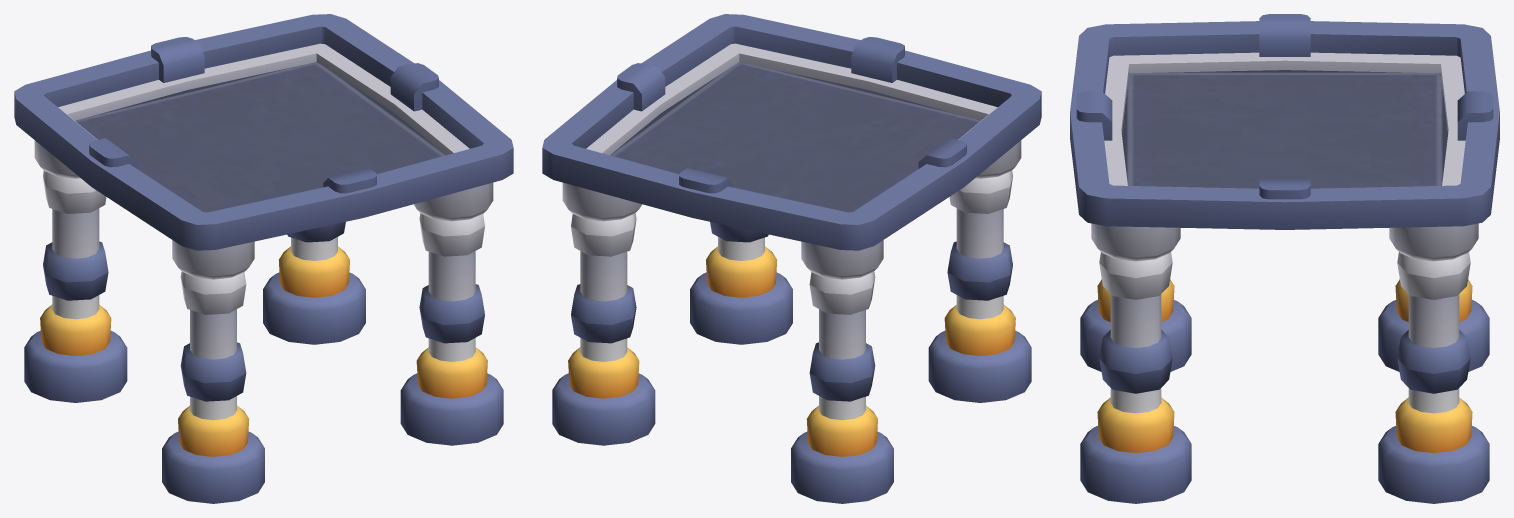
The model's file is kenney-space-modular-template-floor-layer-raised.glb.
3 views of the same model, side by side, from view 1: azimuth 30°, elevation 25°; view 2: azimuth 150°, elevation 25°; view 3: azimuth 270°, elevation 25° (orthographic). The views are drawn at different scales.
Parts seen in each view (by area): view 1: template-floor-layer-raised; view 2: template-floor-layer-raised; view 3: template-floor-layer-raised.
Part boxes in pixels (x1=…): template-floor-layer-raised: x1=14, y1=14, x2=513, y2=503; template-floor-layer-raised: x1=542, y1=14, x2=1041, y2=503; template-floor-layer-raised: x1=1070, y1=14, x2=1499, y2=503.
Size of the model in its own units: 4.2 by 3.4 by 4.2.
Materials: 1 (1 with a texture image).
